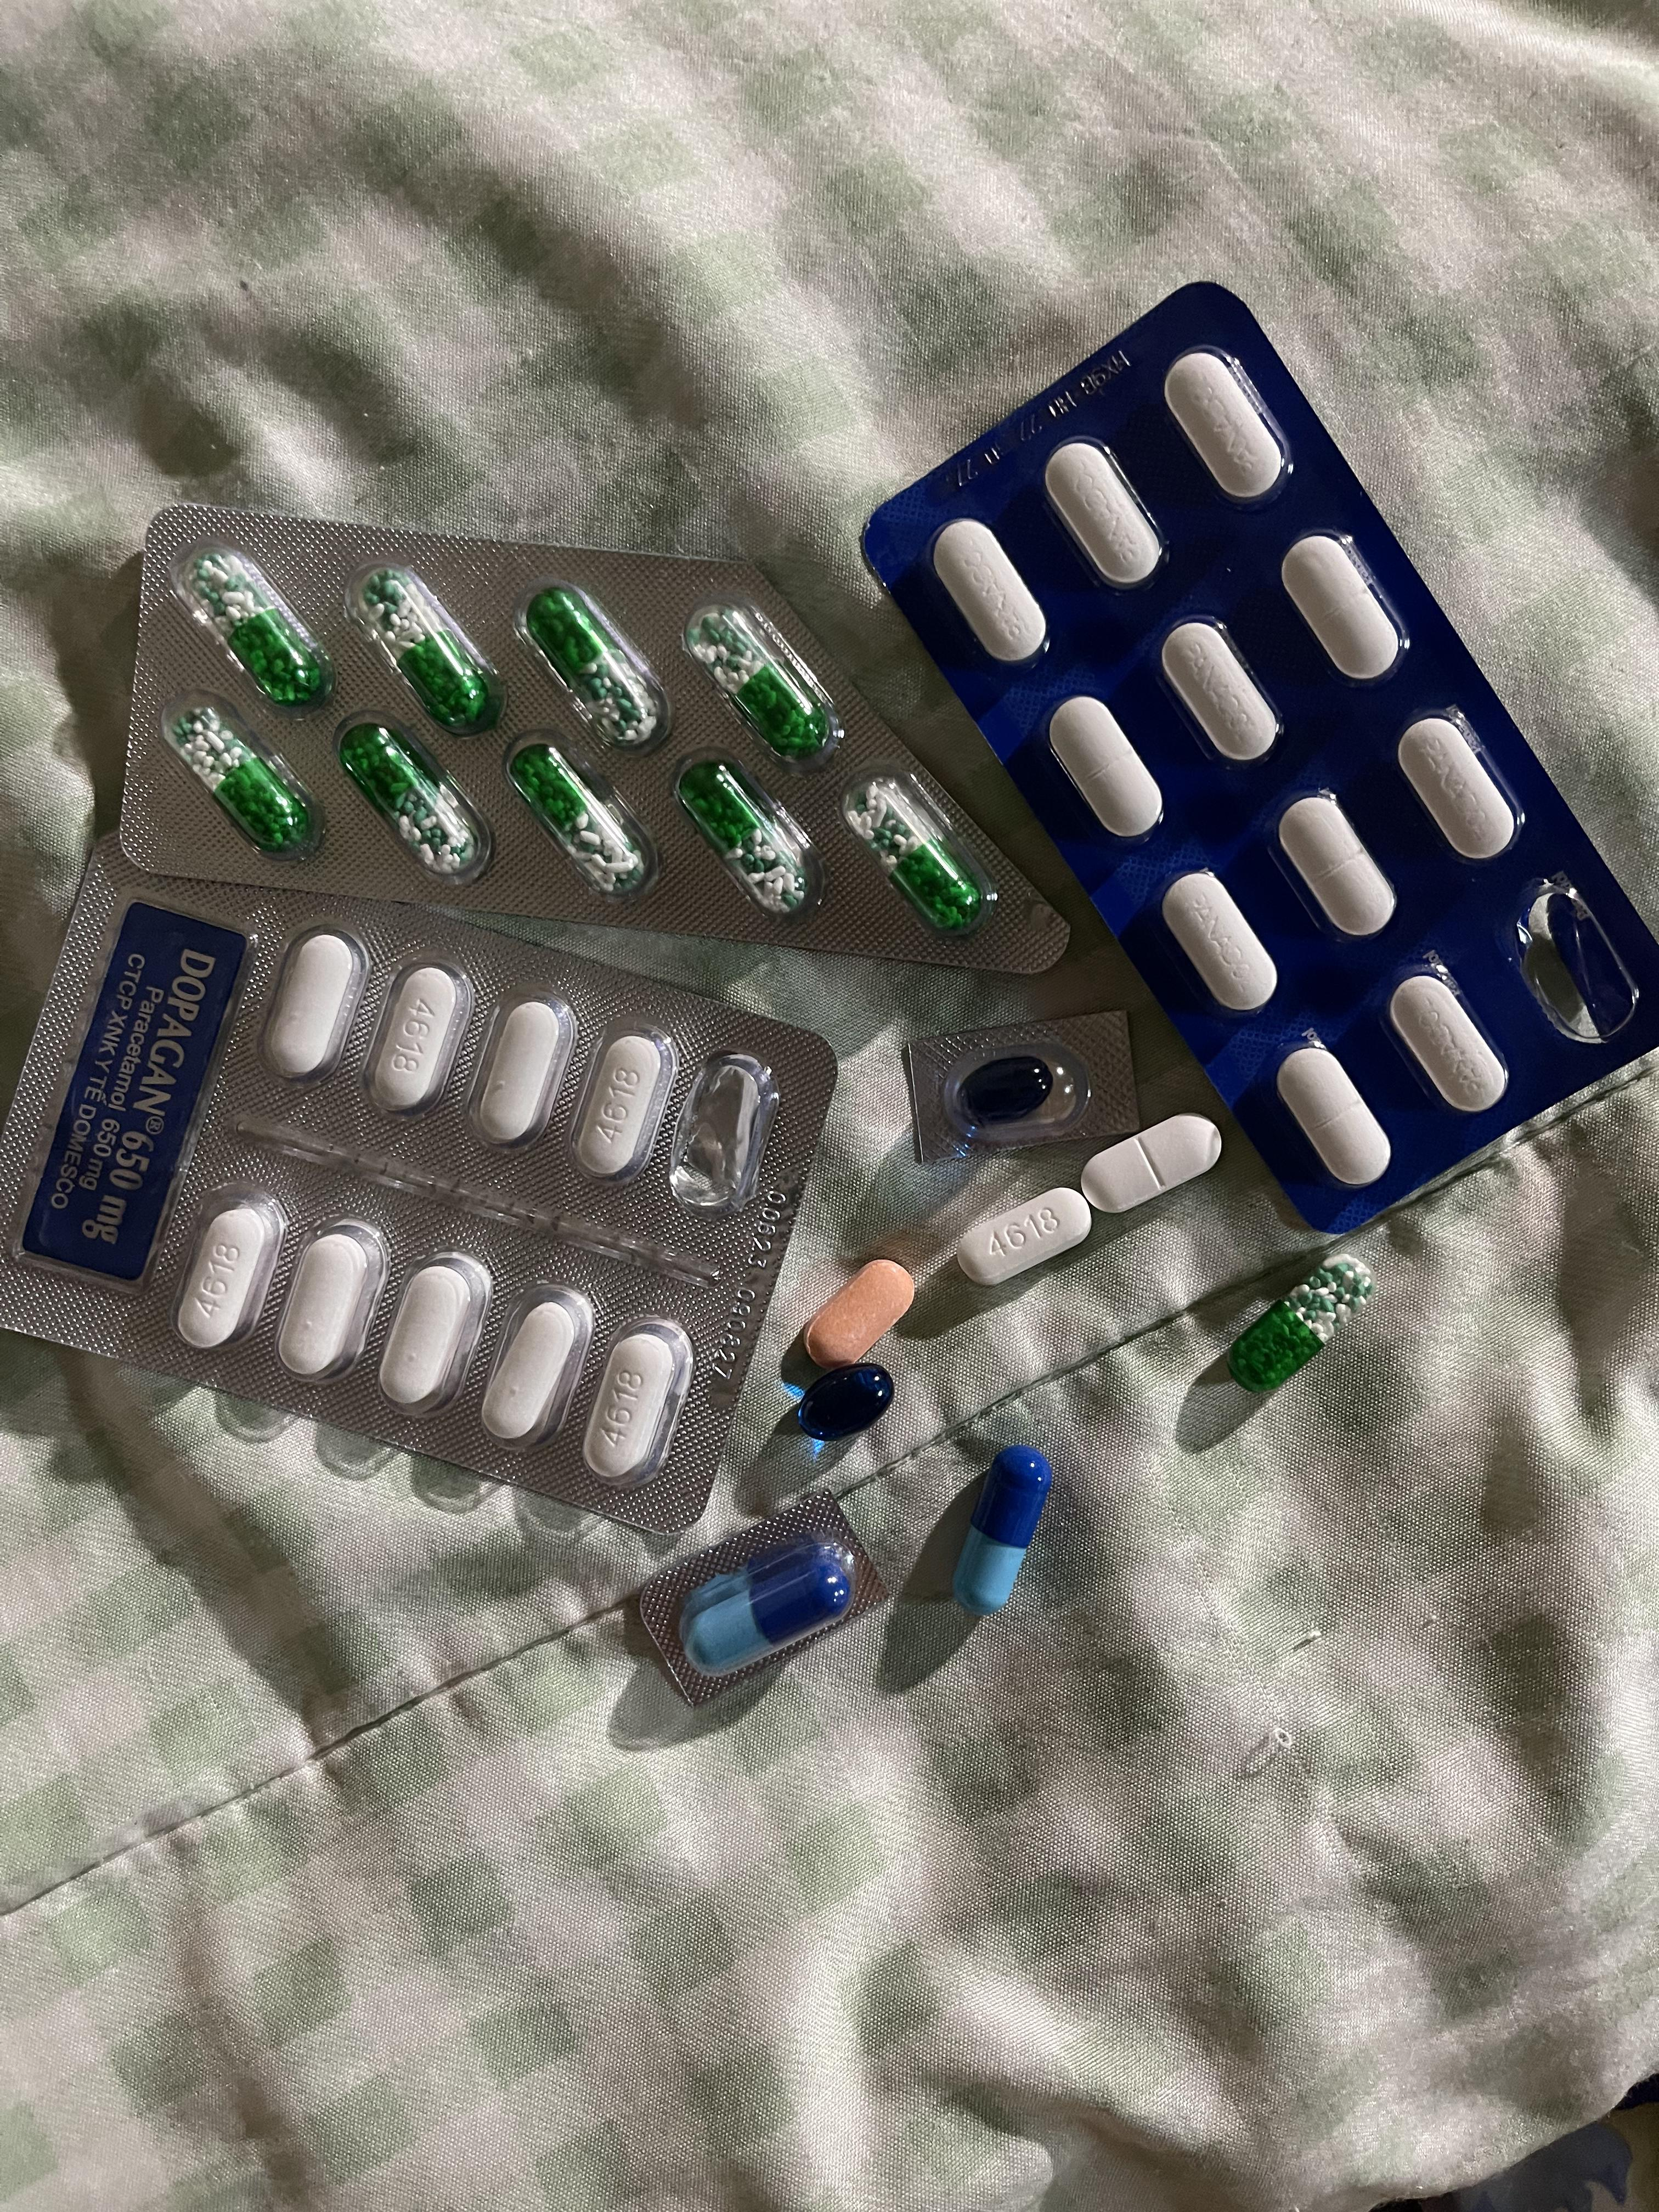Lincomyxin_500mg: (793, 1360, 892, 1442), (960, 1057, 1054, 1123)
Loratadine_10mg: (802, 1259, 913, 1371)
Paracetamol_350mg: (1166, 348, 1291, 509), (1281, 531, 1403, 681), (1277, 791, 1399, 937), (1387, 970, 1511, 1113), (1159, 620, 1281, 765), (1044, 439, 1162, 587), (1398, 714, 1516, 862), (1047, 697, 1162, 843), (1276, 1045, 1394, 1184), (932, 521, 1047, 664), (1164, 869, 1277, 1010), (1080, 1111, 1225, 1216)
Paracetamol_500mg: (479, 1282, 598, 1449), (584, 1317, 701, 1486), (173, 1181, 291, 1346), (376, 1249, 491, 1414), (277, 1216, 389, 1383), (364, 956, 474, 1116), (568, 1026, 678, 1183), (469, 989, 579, 1146), (267, 934, 361, 1076), (957, 1190, 1089, 1289)
Paracetamol_650mg: (838, 773, 979, 928), (509, 747, 650, 900), (526, 589, 659, 745), (362, 568, 493, 726), (1230, 1251, 1378, 1390), (188, 552, 326, 702), (342, 725, 477, 876), (174, 709, 310, 853), (694, 610, 826, 756), (680, 768, 798, 914)
pill: (683, 1548, 845, 1674), (951, 1447, 1049, 1618)
